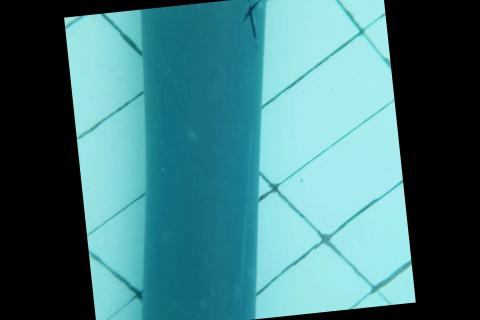keretakan: (235, 0, 269, 49)
